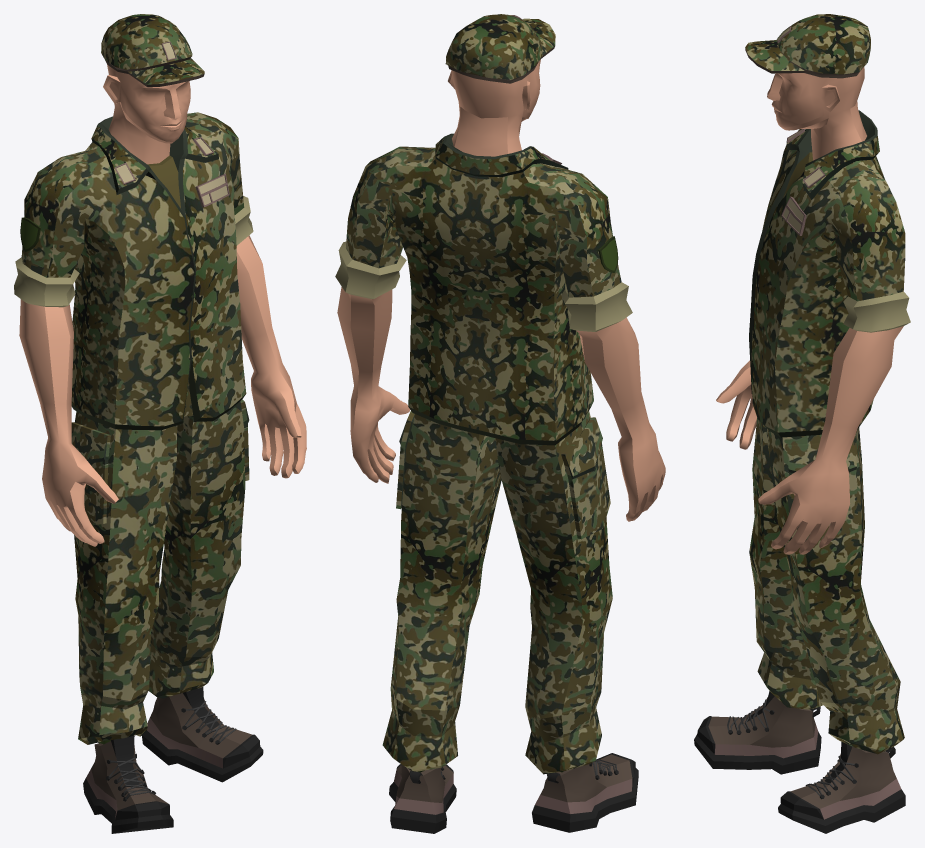
File: Uniform C.glb
3 renders of one model, left to right at view 1: azimuth 30°, elevation 25°; view 2: azimuth 150°, elevation 25°; view 3: azimuth 270°, elevation 25°, orthographic. The views are drawn at different scales.
Visible parts, largest first — view 1: Uniform C.001; view 2: Uniform C.001; view 3: Uniform C.001.
Part boxes in pixels (<box>): Uniform C.001: <box>14,14,306,833</box>; Uniform C.001: <box>335,14,665,833</box>; Uniform C.001: <box>694,14,910,833</box>.
Size of the model in its own units: 0.5782 by 1.57 by 0.4016.
Materials: 2 (2 with a texture image).
